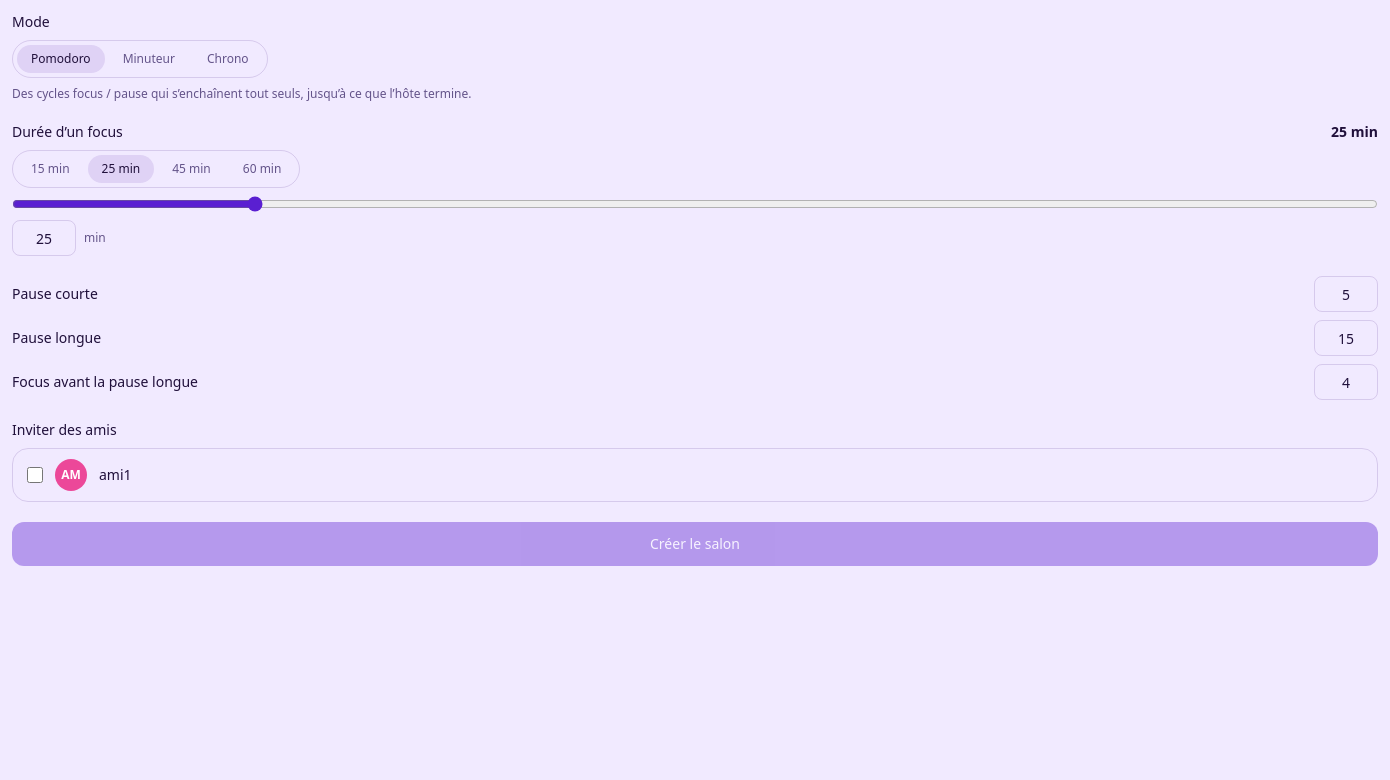
it: CreateRoomForm — LOT F3 › désactive la création tant qu’aucun ami n’est invité (LOT F4, finitions)
The width and height of the screenshot is (1390, 780).
expect the button "Créer le salon" is disabled: met, box [12, 522, 1378, 566]
Click the text "ami1": (115, 474) [99, 465, 132, 484]
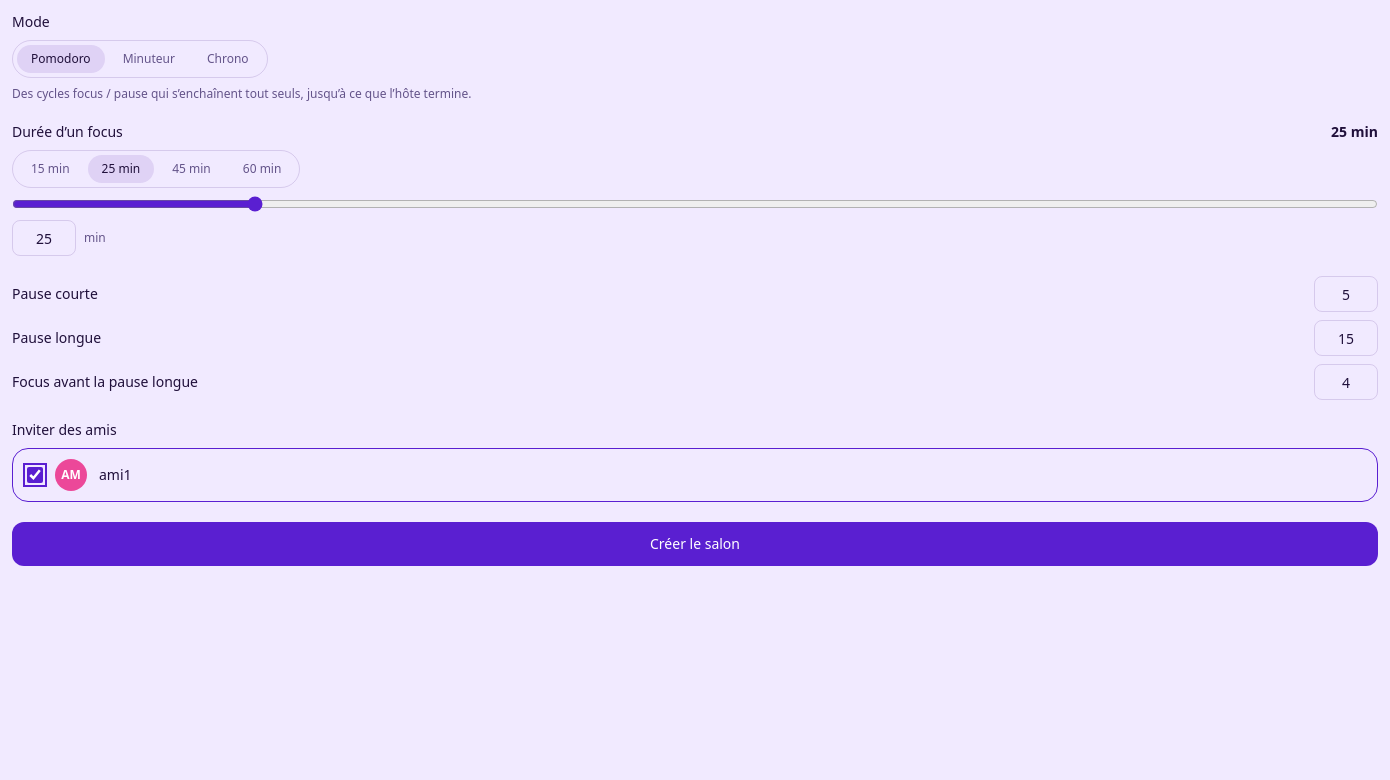
expect the button "Créer le salon" is enabled: met, box [12, 522, 1378, 566]
Click the text "ami1": (115, 474) [99, 465, 132, 484]
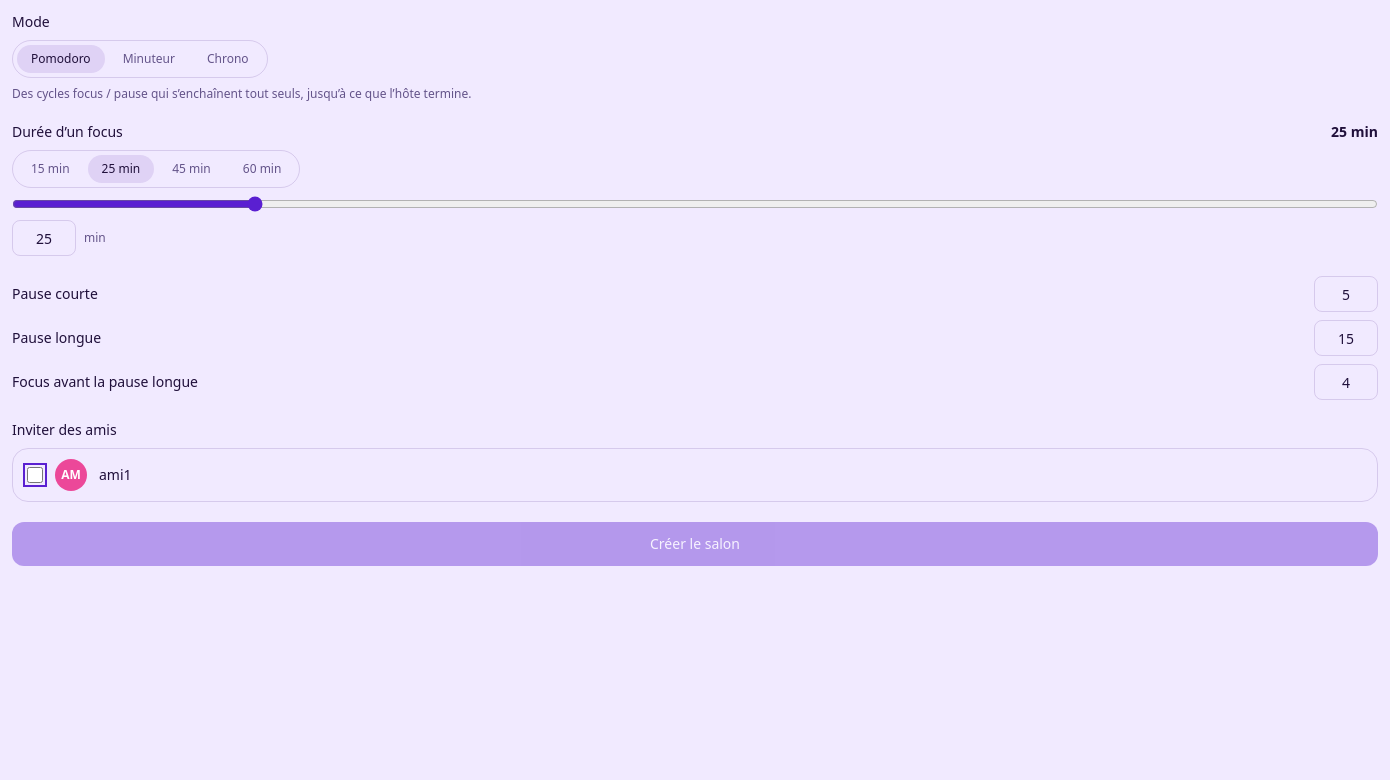
expect the button "Créer le salon" is disabled: met, box [12, 522, 1378, 566]
